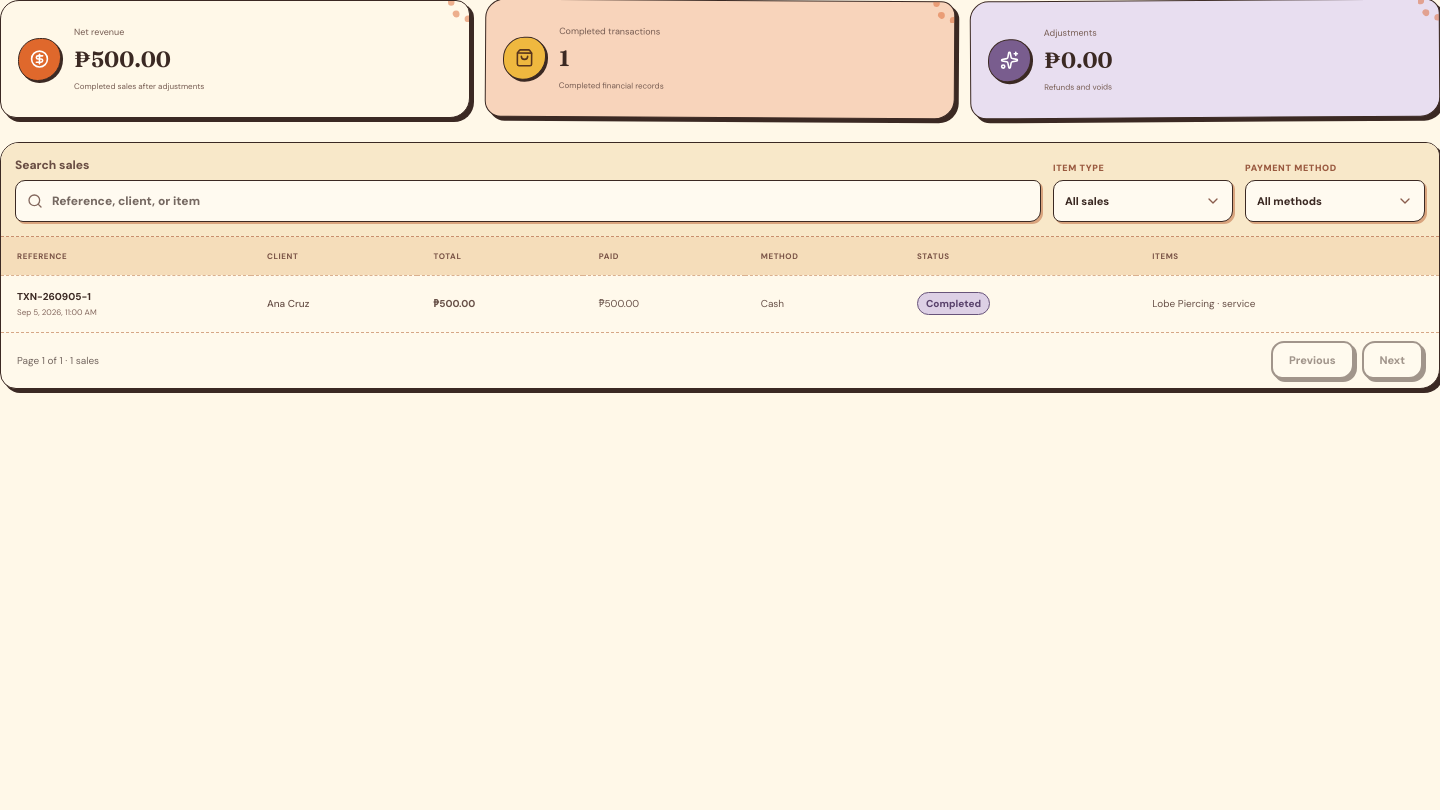
Test: SalesPage › opens completed-sale details with the owner cancellation action
Click the button with aria-label "Open sale TXN-260905-1". click: (720, 303)
box: [1, 275, 1439, 332]
(page scrolled)
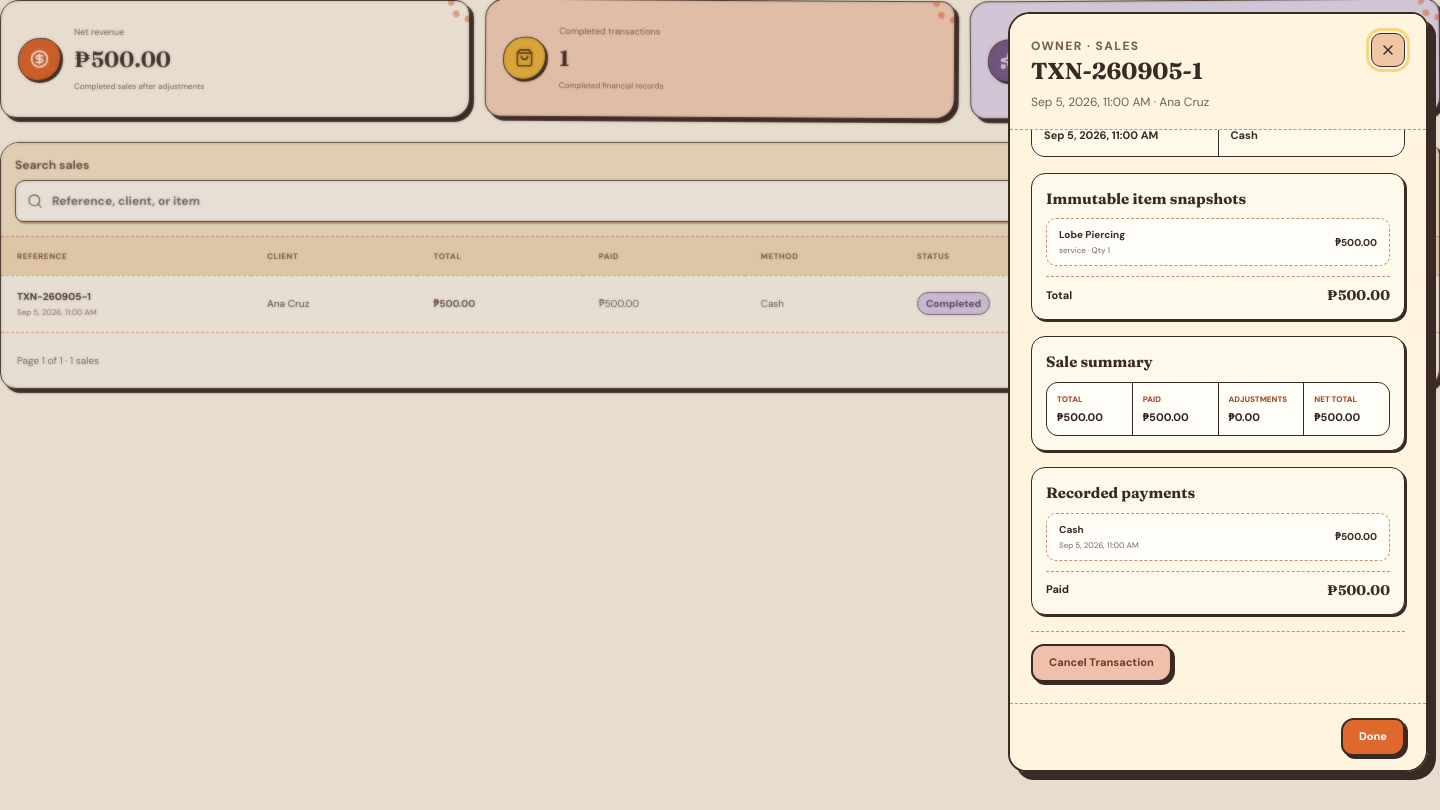
Now the heading "Immutable item snapshots" is shown, box [1046, 188, 1246, 208]
Now the heading "Recorded payments" is shown, box [1046, 483, 1195, 502]
Now the button "Cancel Transaction" is shown, box [1031, 644, 1172, 682]
